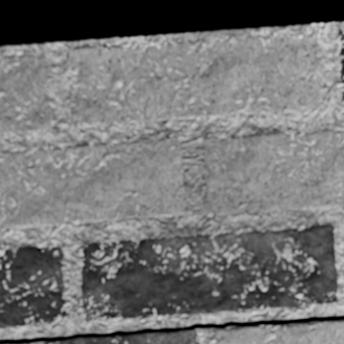brick: (82, 226, 336, 319), (69, 34, 323, 126), (0, 140, 186, 228), (203, 131, 343, 216), (0, 247, 67, 326), (0, 56, 53, 134), (216, 321, 343, 343), (45, 330, 199, 343), (339, 31, 343, 56), (340, 60, 343, 83)
crack: (0, 315, 343, 343)
